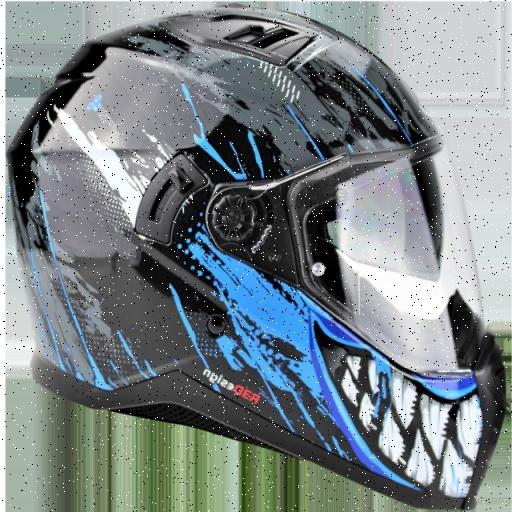Helmet: (8, 7, 505, 508)
